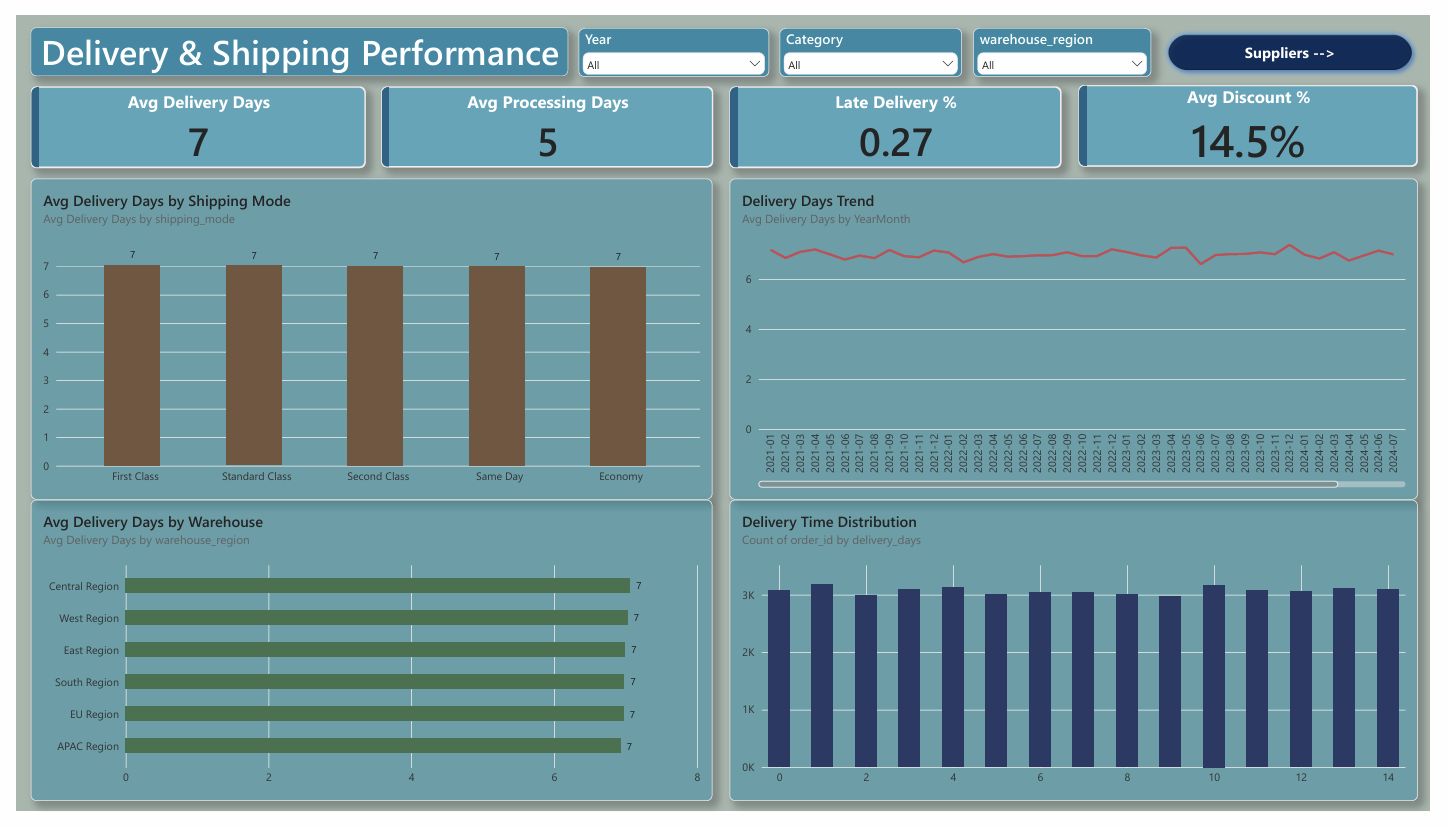

The dashboard page shown, as its layout file describes it:
{"tool":"powerbi","page":{"name":"Delivery","canvas":[1920,1080],"ordinal":2},"visuals":[{"type":"textbox","title":"Delivery & Shipping Performance","box":[18.5,16.5,730.7,65.9],"z":0},{"type":"slicer","fields":{"Values":["DateTable.Year"]},"box":[763,16.5,258.6,66],"z":1000},{"type":"slicer","fields":{"Values":["supply_chain_analysis_dashboard.category"]},"box":[1036.4,16.5,247.6,66],"z":2000},{"type":"slicer","fields":{"Values":["supply_chain_analysis_dashboard.warehouse_region"]},"box":[1298.6,16.5,242.1,66],"z":3000},{"type":"actionButton","box":[1555.4,16.5,348.5,66],"z":4000},{"type":"cardVisual","fields":{"Data":["supply_chain_analysis_dashboard.Avg Delivery Days"]},"box":[18.8,96,455,110.6],"z":5000},{"type":"cardVisual","fields":{"Data":["supply_chain_analysis_dashboard.Avg Processing Days"]},"box":[494.6,96,451.2,110.1],"z":6000},{"type":"cardVisual","fields":{"Data":["supply_chain_analysis_dashboard.Late Delivery %"]},"box":[968.3,96,450.8,110.6],"z":7000},{"type":"cardVisual","fields":{"Data":["supply_chain_analysis_dashboard.Avg Discount %"]},"box":[1442.1,93.9,461.2,110.6],"z":8000},{"type":"clusteredColumnChart","title":"Avg Delivery Days by Shipping Mode","fields":{"Category":["supply_chain_analysis_dashboard.shipping_mode"],"Y":["supply_chain_analysis_dashboard.Avg Delivery Days"]},"box":[18.8,221.2,926.6,436.2],"z":9000},{"type":"lineChart","title":"Delivery Days Trend","fields":{"Category":["DateTable.YearMonth"],"Y":["supply_chain_analysis_dashboard.Avg Delivery Days"]},"box":[968.3,221.2,935,436.2],"z":10000},{"type":"clusteredBarChart","title":"Avg Delivery Days by Warehouse","fields":{"Category":["supply_chain_analysis_dashboard.warehouse_region"],"Y":["supply_chain_analysis_dashboard.Avg Delivery Days"]},"box":[18.8,657.4,926.6,409],"z":11000},{"type":"clusteredColumnChart","title":"Delivery Time Distribution","fields":{"Category":["supply_chain_analysis_dashboard.delivery_days"],"Y":["CountNonNull(supply_chain_analysis_dashboard.order_id)"]},"box":[968,657,935,409],"z":12000}]}

Visuals, with their boxes in screenshot pixels (x1, y1, x2, y2), scaled from the page's 1920x1080 canvas onto the 1447x827 screenshot:
"Delivery & Shipping Performance" textbox: x1=14 y1=13 x2=565 y2=63
slicer - DateTable.Year: x1=575 y1=13 x2=770 y2=63
slicer - supply_chain_analysis_dashboard.category: x1=781 y1=13 x2=968 y2=63
slicer - supply_chain_analysis_dashboard.warehouse_region: x1=979 y1=13 x2=1161 y2=63
actionButton: x1=1172 y1=13 x2=1435 y2=63
cardVisual - supply_chain_analysis_dashboard.Avg Delivery Days: x1=14 y1=74 x2=357 y2=158
cardVisual - supply_chain_analysis_dashboard.Avg Processing Days: x1=373 y1=74 x2=713 y2=158
cardVisual - supply_chain_analysis_dashboard.Late Delivery %: x1=730 y1=74 x2=1069 y2=158
cardVisual - supply_chain_analysis_dashboard.Avg Discount %: x1=1087 y1=72 x2=1434 y2=157
"Avg Delivery Days by Shipping Mode" clusteredColumnChart: x1=14 y1=169 x2=712 y2=503
"Delivery Days Trend" lineChart: x1=730 y1=169 x2=1434 y2=503
"Avg Delivery Days by Warehouse" clusteredBarChart: x1=14 y1=503 x2=712 y2=817
"Delivery Time Distribution" clusteredColumnChart: x1=730 y1=503 x2=1434 y2=816
